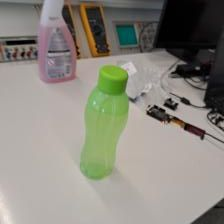bottle: (77, 63, 131, 182)
